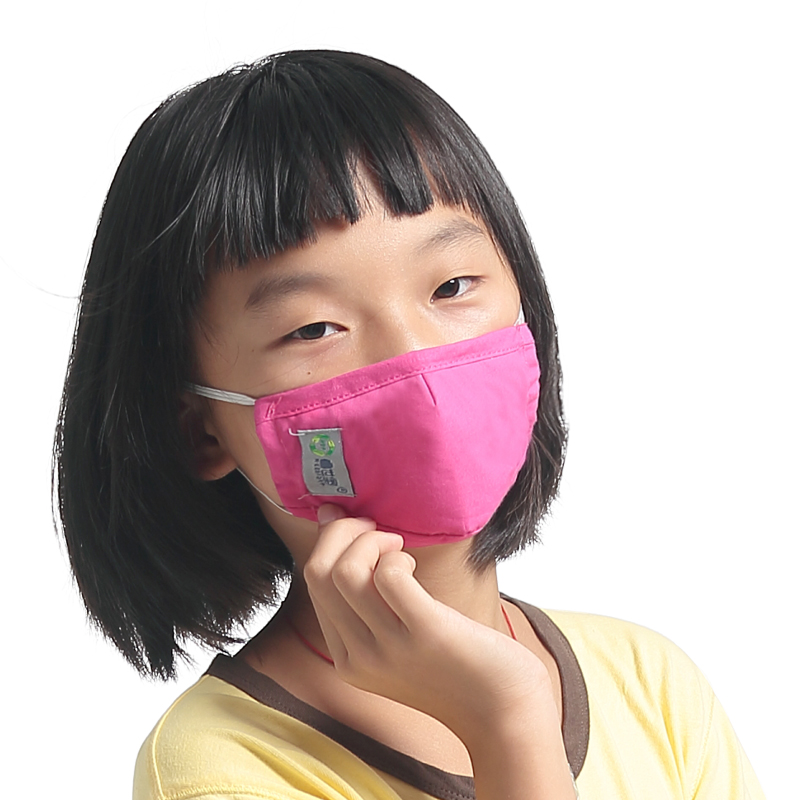face_mask: (225, 167, 540, 575)
